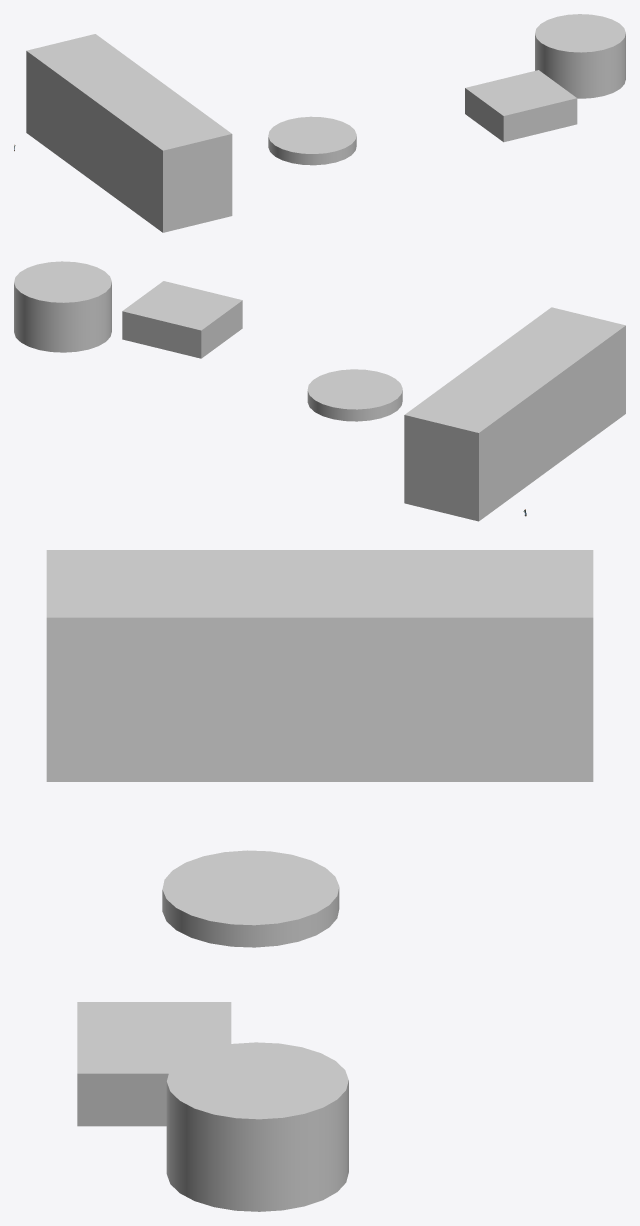
Rendered from ban1.obj.
3 renders of one model, top to bottom at view 1: azimuth 30°, elevation 25°; view 2: azimuth 150°, elevation 25°; view 3: azimuth 270°, elevation 25°, orthographic. The views are drawn at different scales.
Parts seen in each view (by area): view 1: Mesh3 Model, Mesh2 Group2 Model, Mesh1 Group1 Model, Mesh4 Model; view 2: Mesh3 Model, Mesh2 Group2 Model, Mesh1 Group1 Model, Mesh4 Model; view 3: Mesh3 Model, Mesh2 Group2 Model, Mesh1 Group1 Model, Mesh4 Model.
Boxes of the visible parts, <box> form: Mesh3 Model: <box>26,34,232,232</box>; Mesh2 Group2 Model: <box>535,14,625,98</box>; Mesh1 Group1 Model: <box>465,70,577,142</box>; Mesh4 Model: <box>268,116,356,165</box>; Mesh3 Model: <box>404,307,625,521</box>; Mesh2 Group2 Model: <box>14,261,111,352</box>; Mesh1 Group1 Model: <box>122,281,242,358</box>; Mesh4 Model: <box>307,369,402,421</box>; Mesh3 Model: <box>46,550,593,781</box>; Mesh2 Group2 Model: <box>166,1042,348,1211</box>; Mesh1 Group1 Model: <box>77,1002,231,1126</box>; Mesh4 Model: <box>162,850,339,947</box>.
Size of the model in its own units: 134 by 19.52 by 58.77.
Materials: 21 (1 with a texture image).
